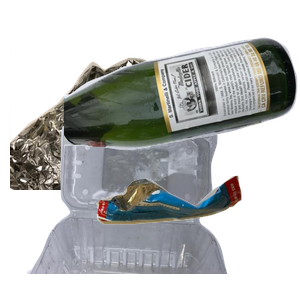glass: (64, 35, 300, 181)
metal: (10, 47, 216, 227)
plastic: (25, 120, 245, 300)
trash: (94, 173, 300, 300)
